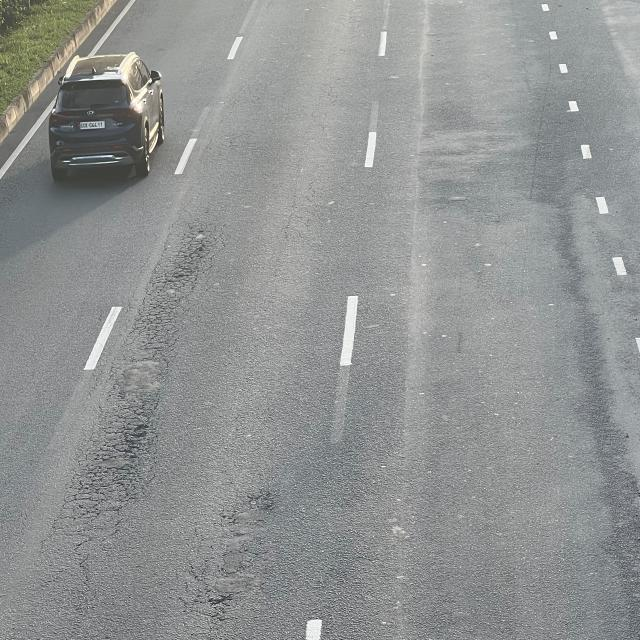car: (50, 55, 170, 185)
